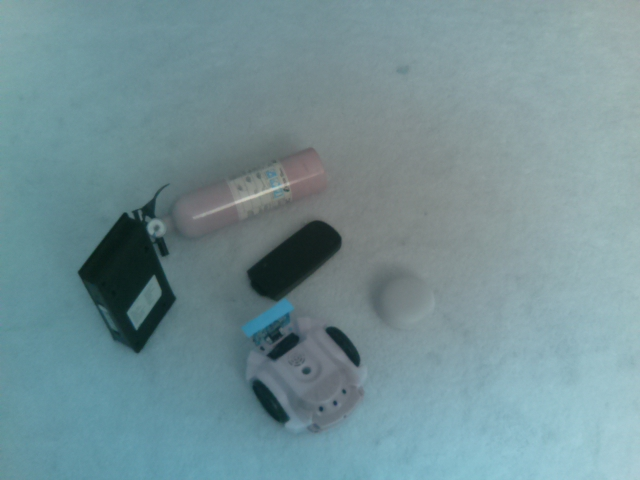board: (235, 300, 302, 339)
chassis: (238, 296, 368, 437)
